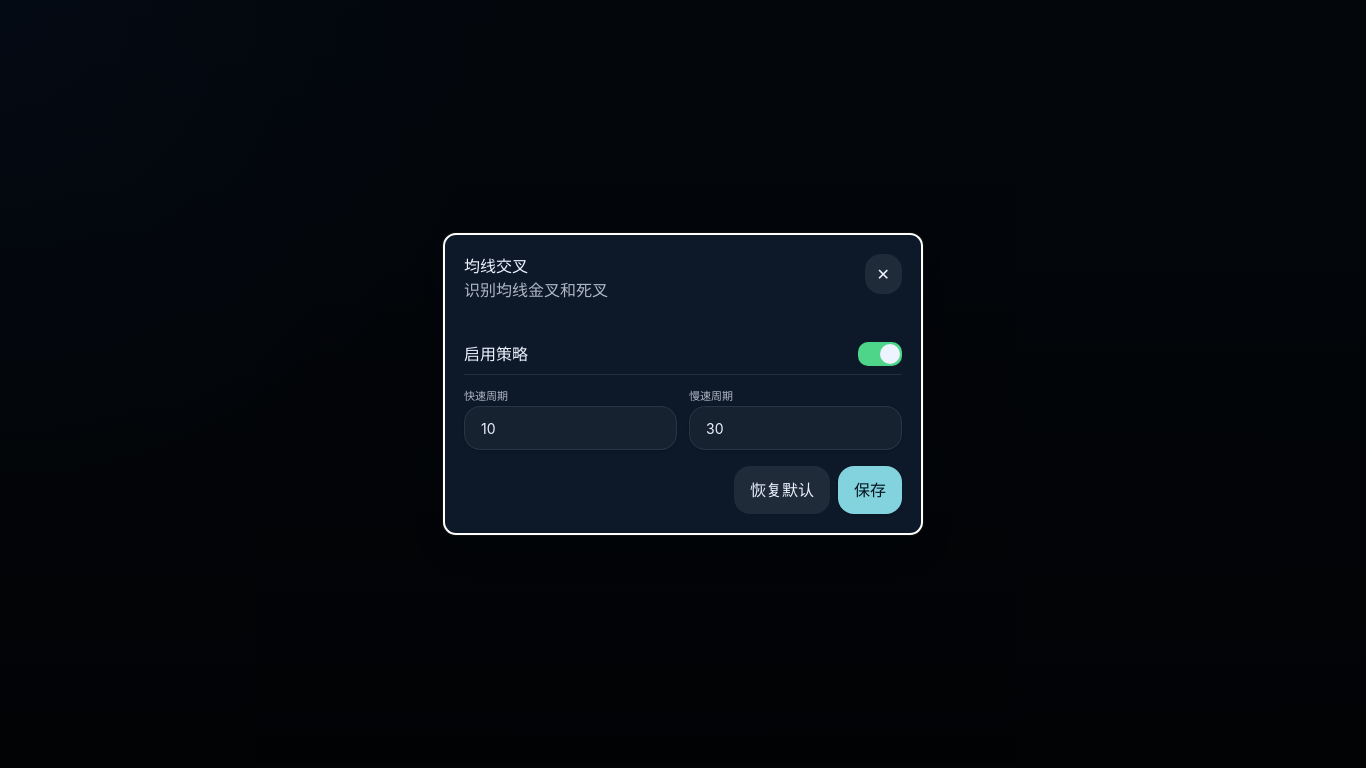
Test: StrategyConfigModal › resets to defaults on reset click
Click the button "恢复默认": {"x": 782, "y": 490} x1=734 y1=466 x2=830 y2=514
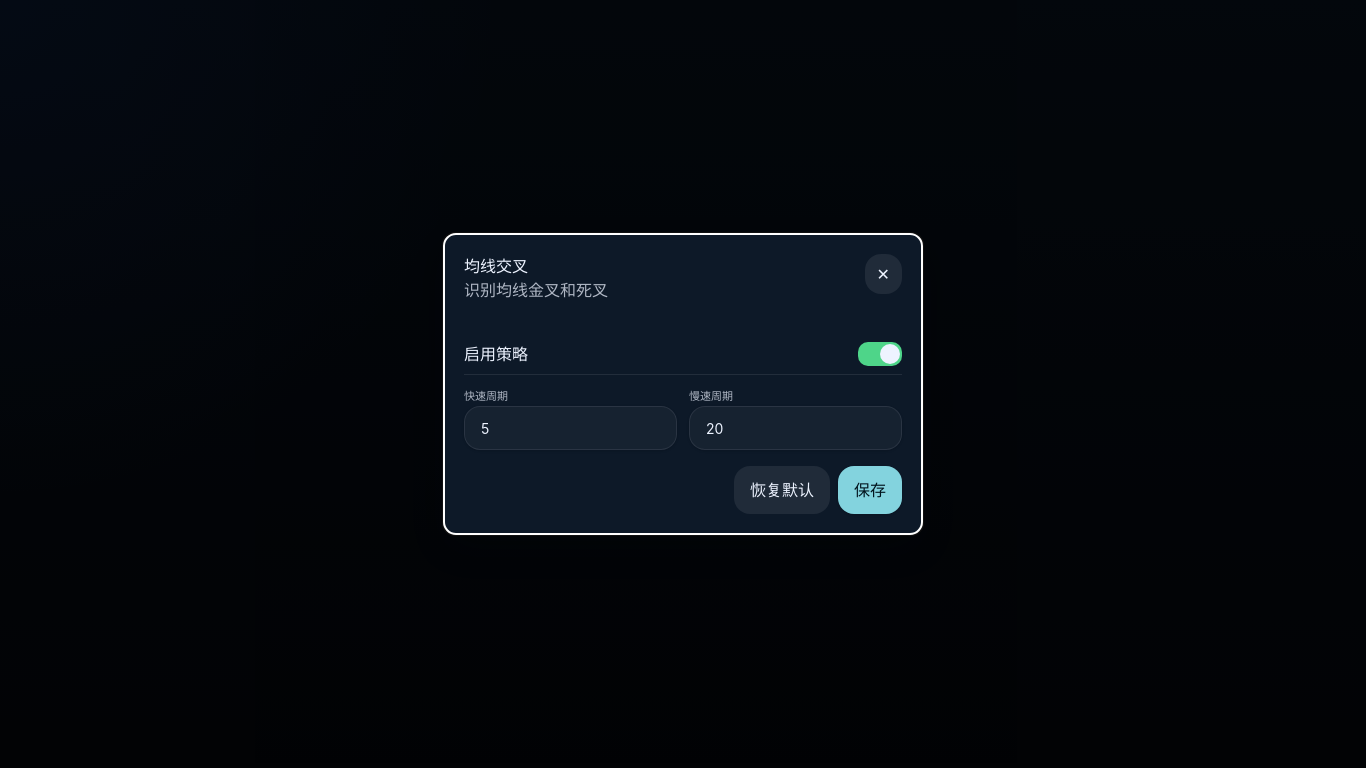
Expected: the number field labelled "快速周期" holds "5", x1=464 y1=406 x2=677 y2=450
Expected: the number field labelled "慢速周期" holds "20", x1=689 y1=406 x2=902 y2=450
